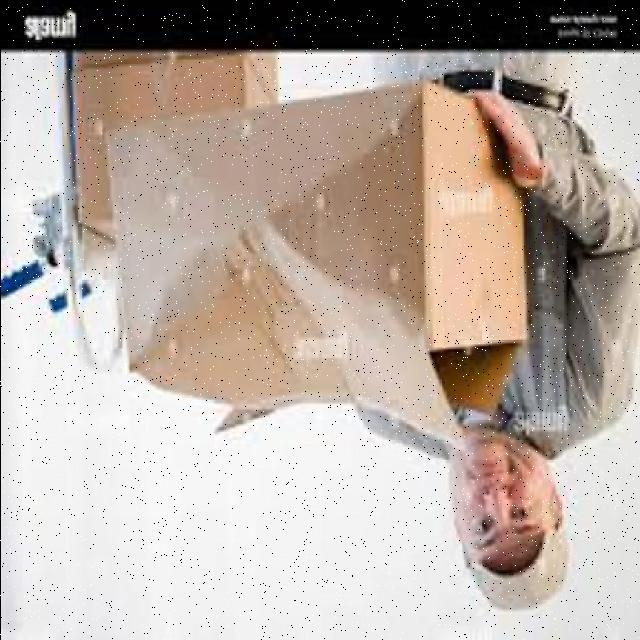defect: (120, 77, 528, 440)
